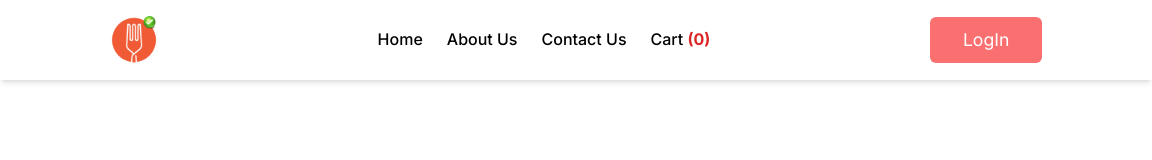
Test: Header component › should change the login button to logout button
Click the button "LogIn": [986, 40] box [930,17,1042,63]
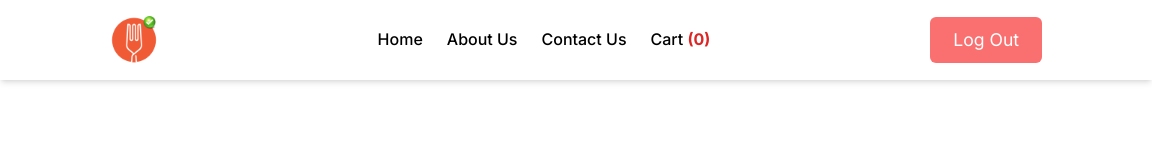
Now the button "Log Out" is shown, box [930,17,1042,63]
